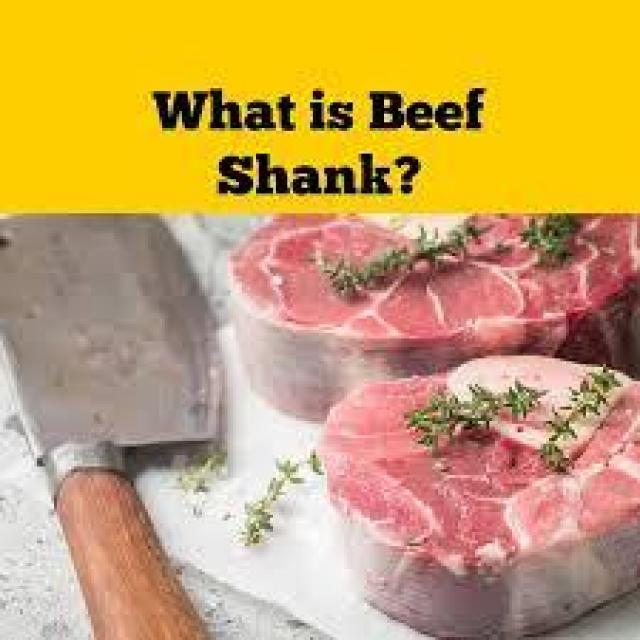beef: (320, 446, 640, 638)
